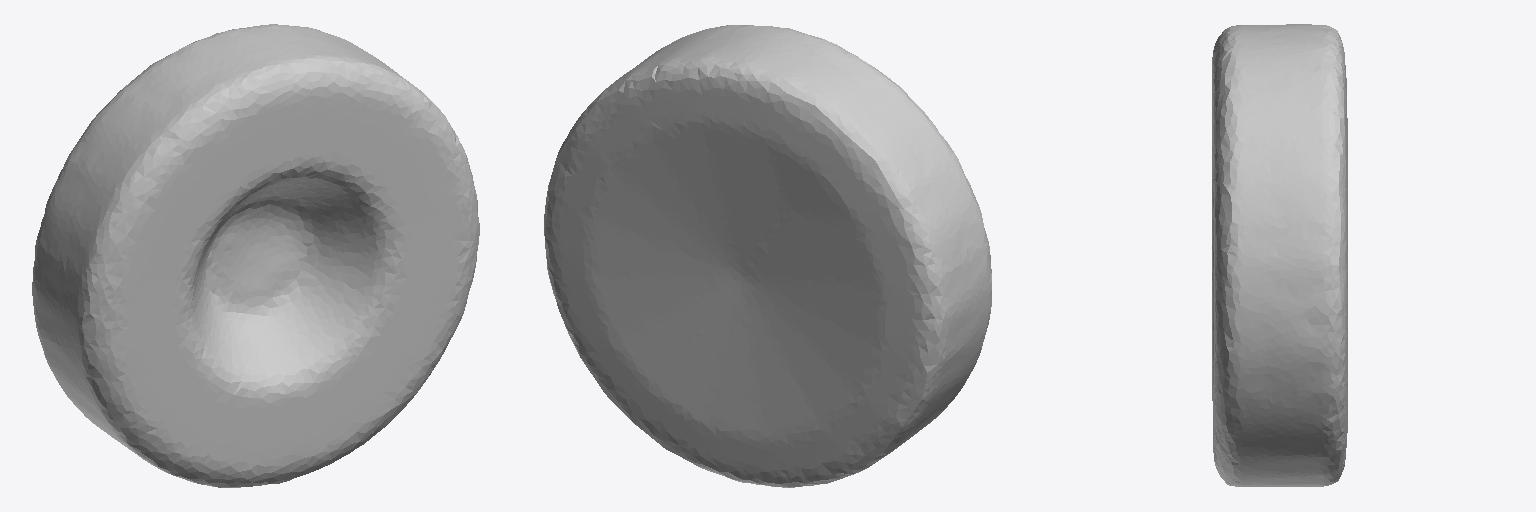
File: Amulet_July_Lobe_31.obj
3 renders of one model, left to right at view 1: azimuth 30°, elevation 25°; view 2: azimuth 150°, elevation 25°; view 3: azimuth 270°, elevation 25°, orthographic.
Bounding box in the file's own units: 31.07 × 30.99 × 9.17.